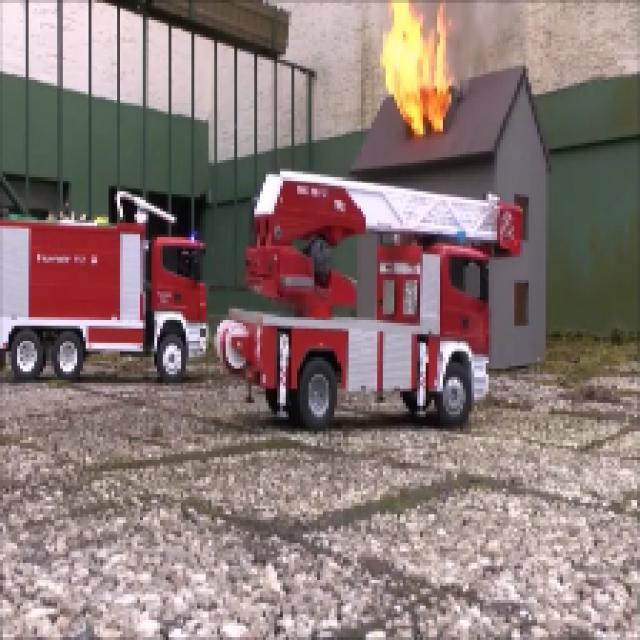Fire: (371, 0, 453, 134)
